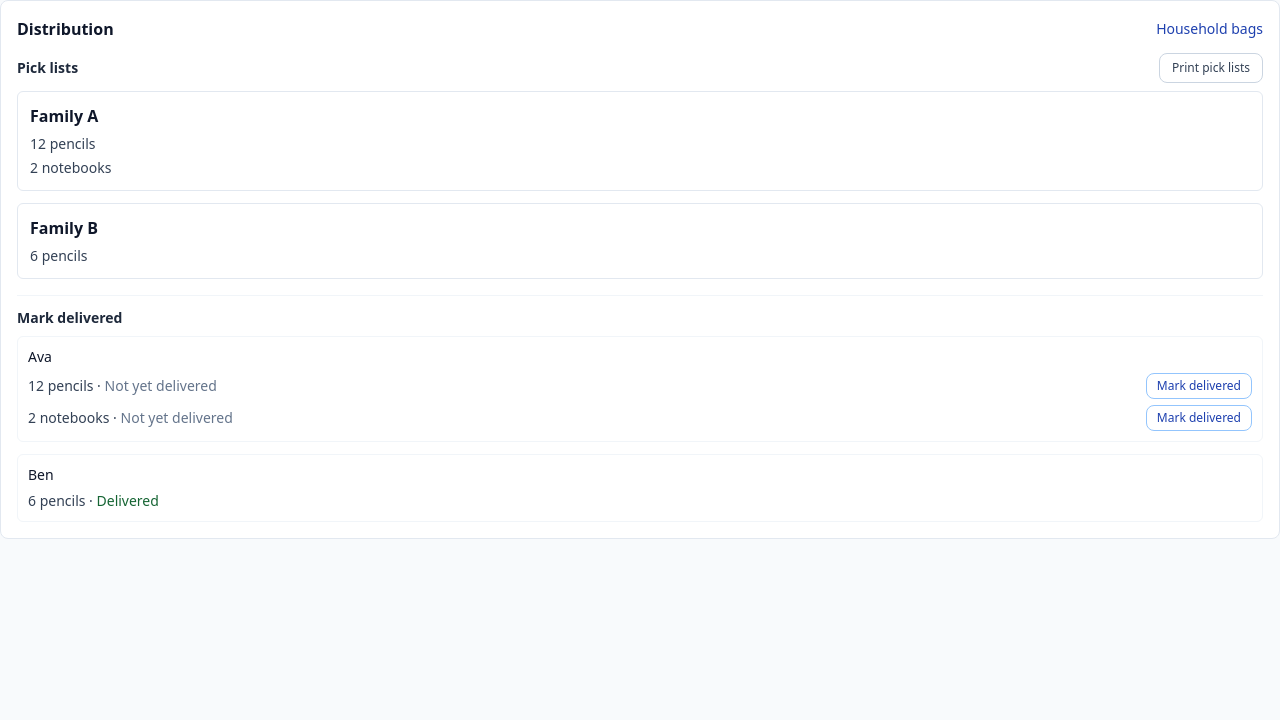
Test: DistributionPanel › marking an item delivered calls the deliver endpoint and updates that row without a full reload
Step 1. Click the 1st button "Mark delivered" → (1199,386), box [1146, 373, 1252, 399]
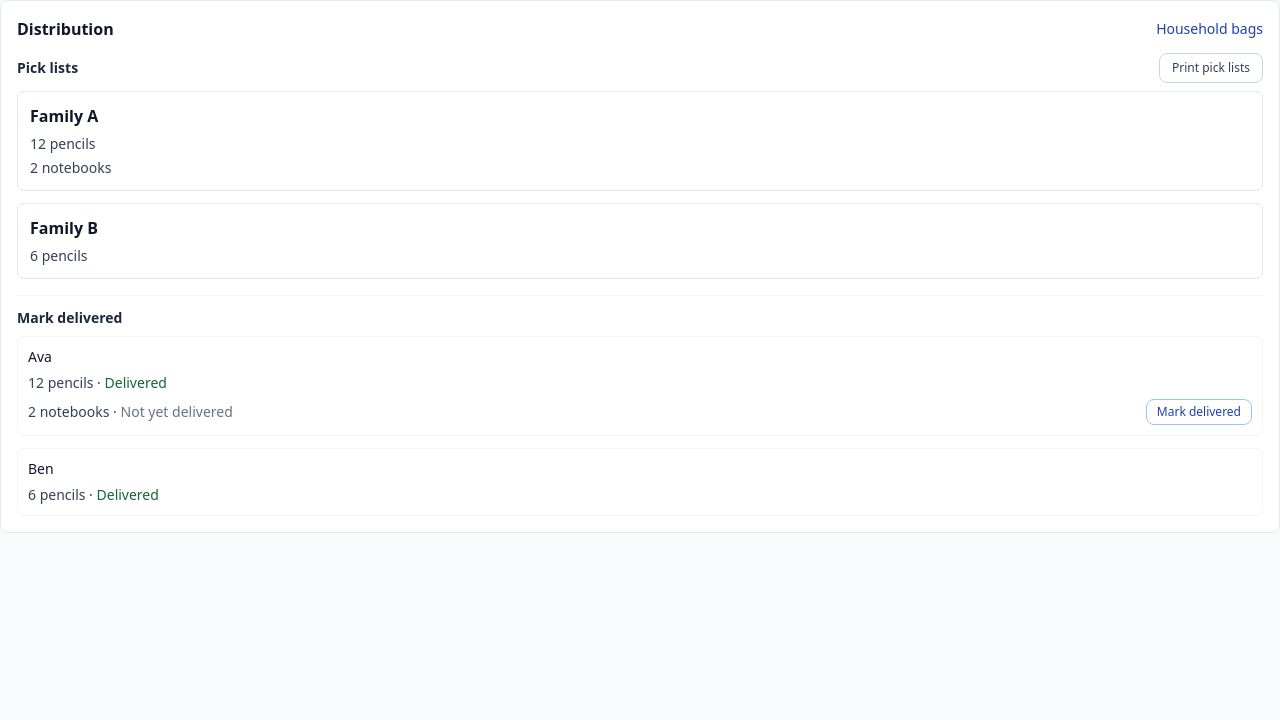
Expected: the number of buttons "Mark delivered" is 1, [1146, 399, 1252, 425]
